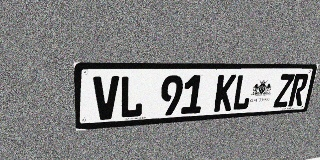1: (181, 75, 205, 114)
9: (160, 75, 184, 116)
K: (213, 74, 237, 112)
L: (119, 76, 144, 119), (231, 74, 254, 111)
R: (288, 74, 309, 107)
V: (93, 76, 119, 120)
Z: (273, 74, 295, 108)
